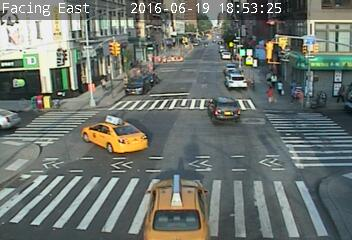neg: (157, 168, 185, 205), (174, 148, 187, 166)
pos: (260, 82, 281, 110)
